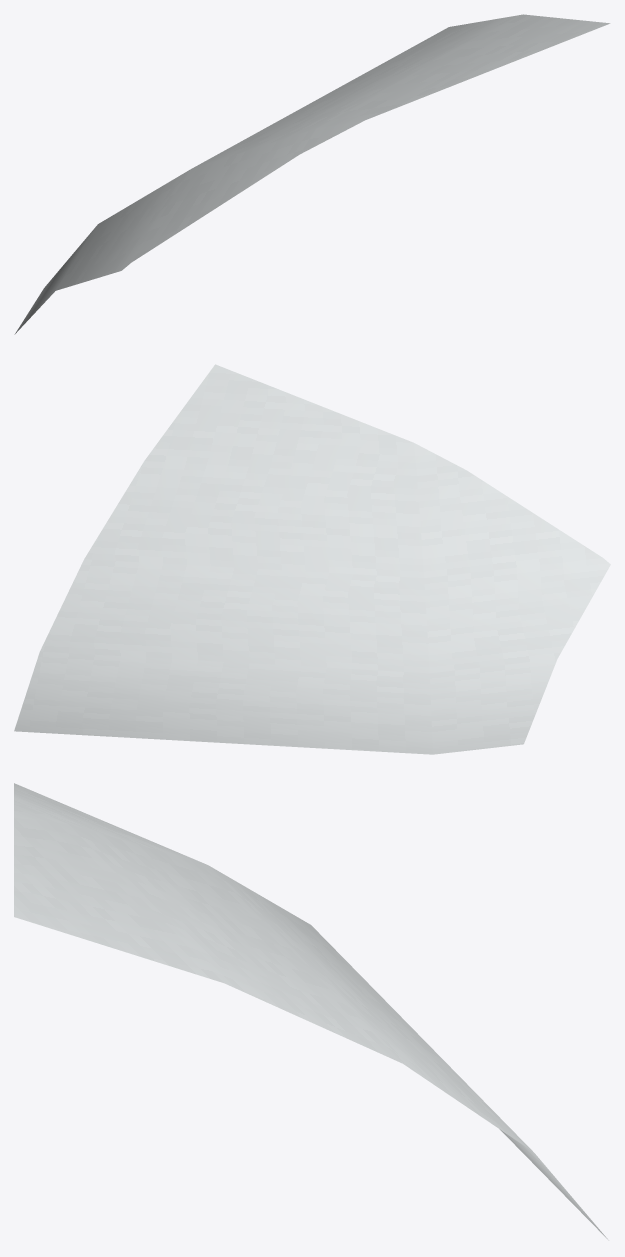
The model's file is spheroid_medium_2_1_0.obj.
3 views of the same model, one above another, from view 1: azimuth 30°, elevation 25°; view 2: azimuth 150°, elevation 25°; view 3: azimuth 270°, elevation 25° (orthographic). The views are drawn at different scales.
Visible parts, largest first — view 1: spheroid_medium_2_1_0; view 2: spheroid_medium_2_1_0; view 3: spheroid_medium_2_1_0.
Part boxes in pixels (bbox=[...]): spheroid_medium_2_1_0: bbox=[14, 14, 610, 334]; spheroid_medium_2_1_0: bbox=[14, 364, 610, 754]; spheroid_medium_2_1_0: bbox=[14, 783, 608, 1240].
Bounding box in the file's own units: 3 × 1.59 × 2.64.
